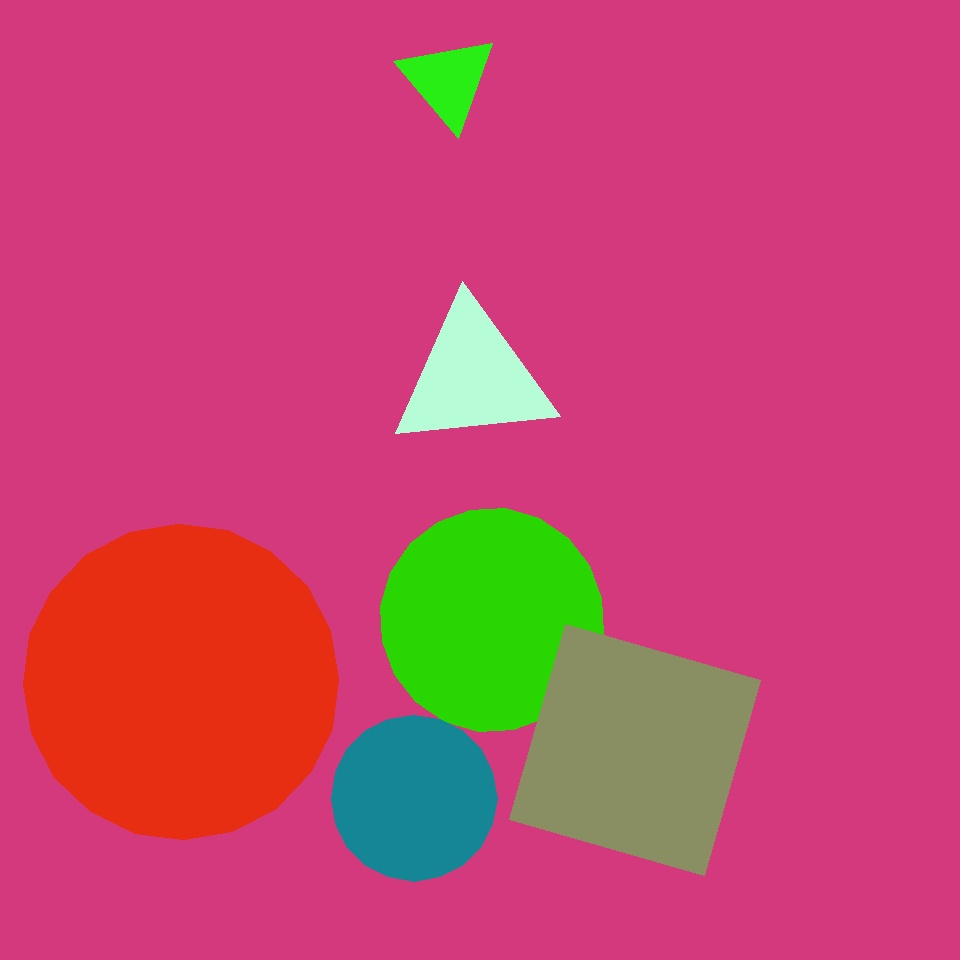circle: (23, 574, 242, 793), (390, 301, 556, 453), (398, 34, 497, 128)
square: (270, 608, 529, 867), (510, 624, 760, 876)
triangle: (23, 524, 338, 840), (380, 509, 604, 732), (331, 715, 497, 881)
